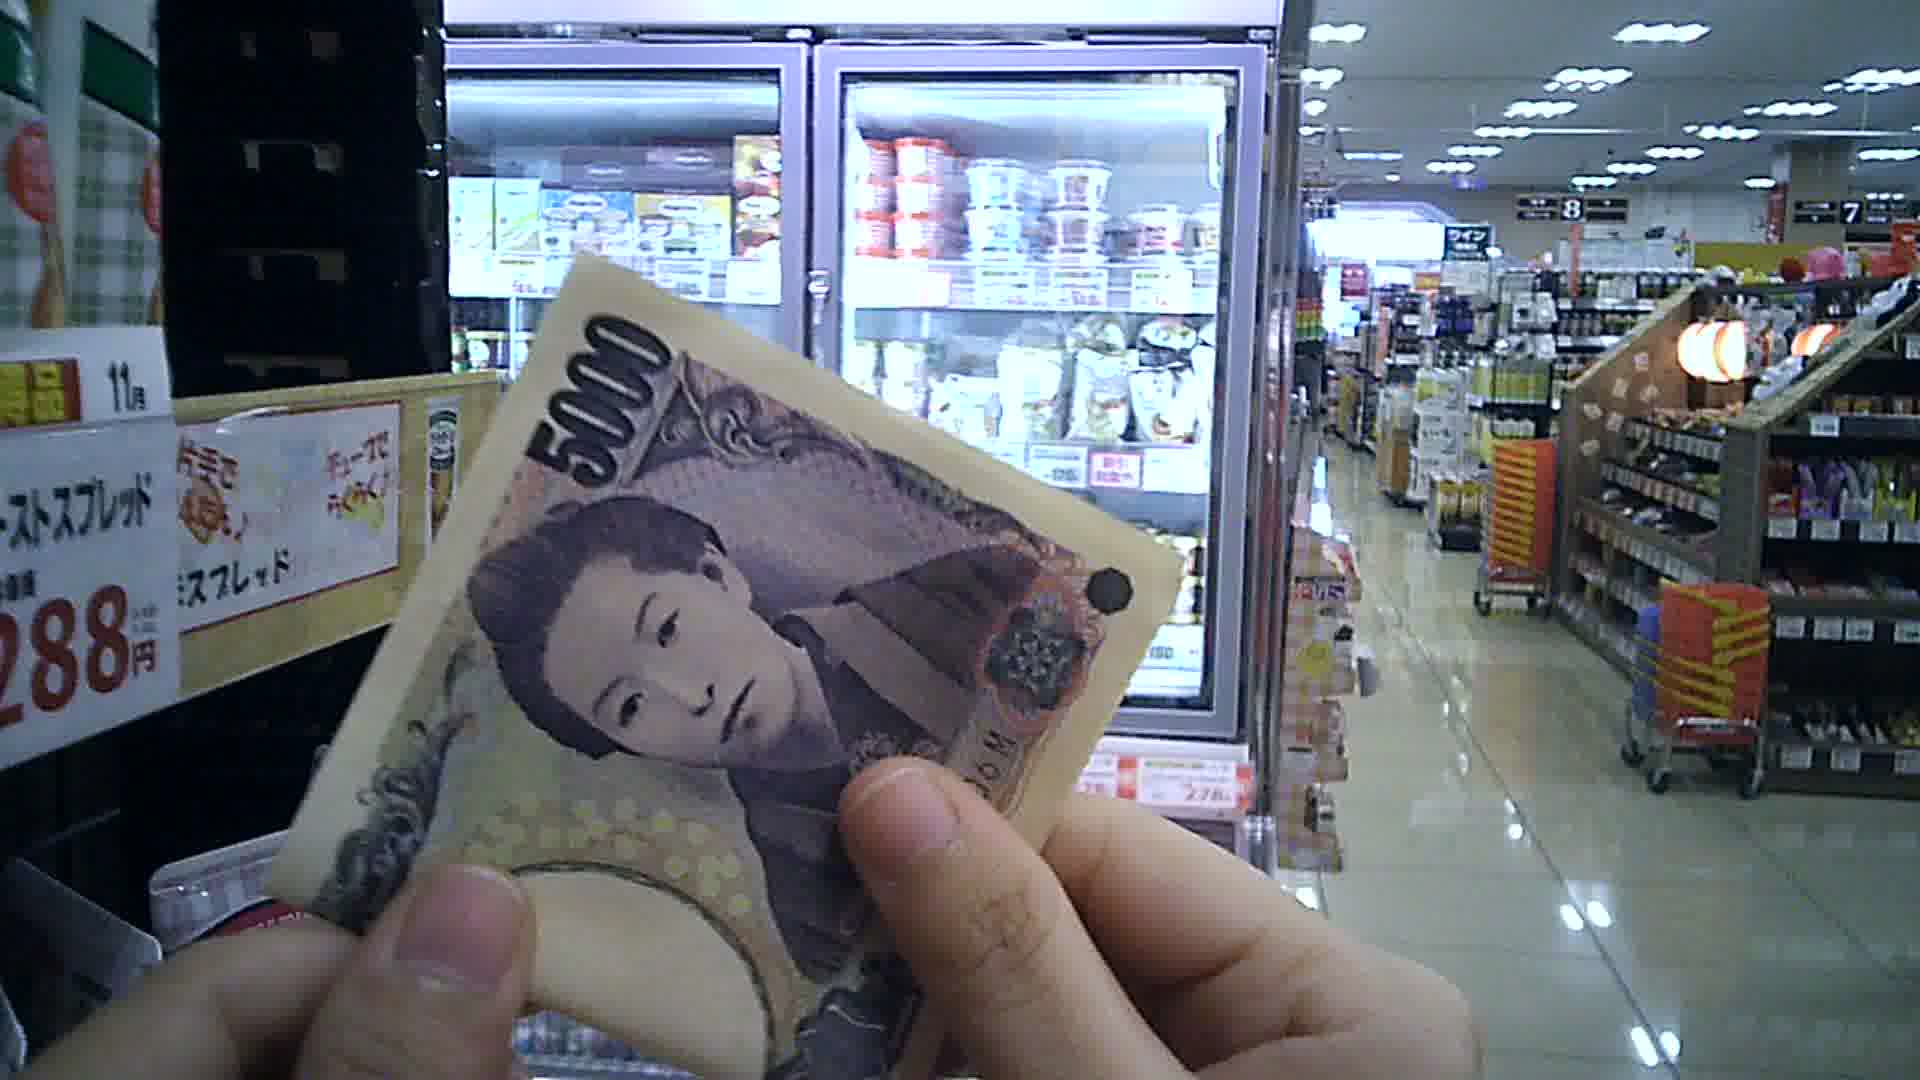5,000 Yen: (284, 243, 1153, 1065)
